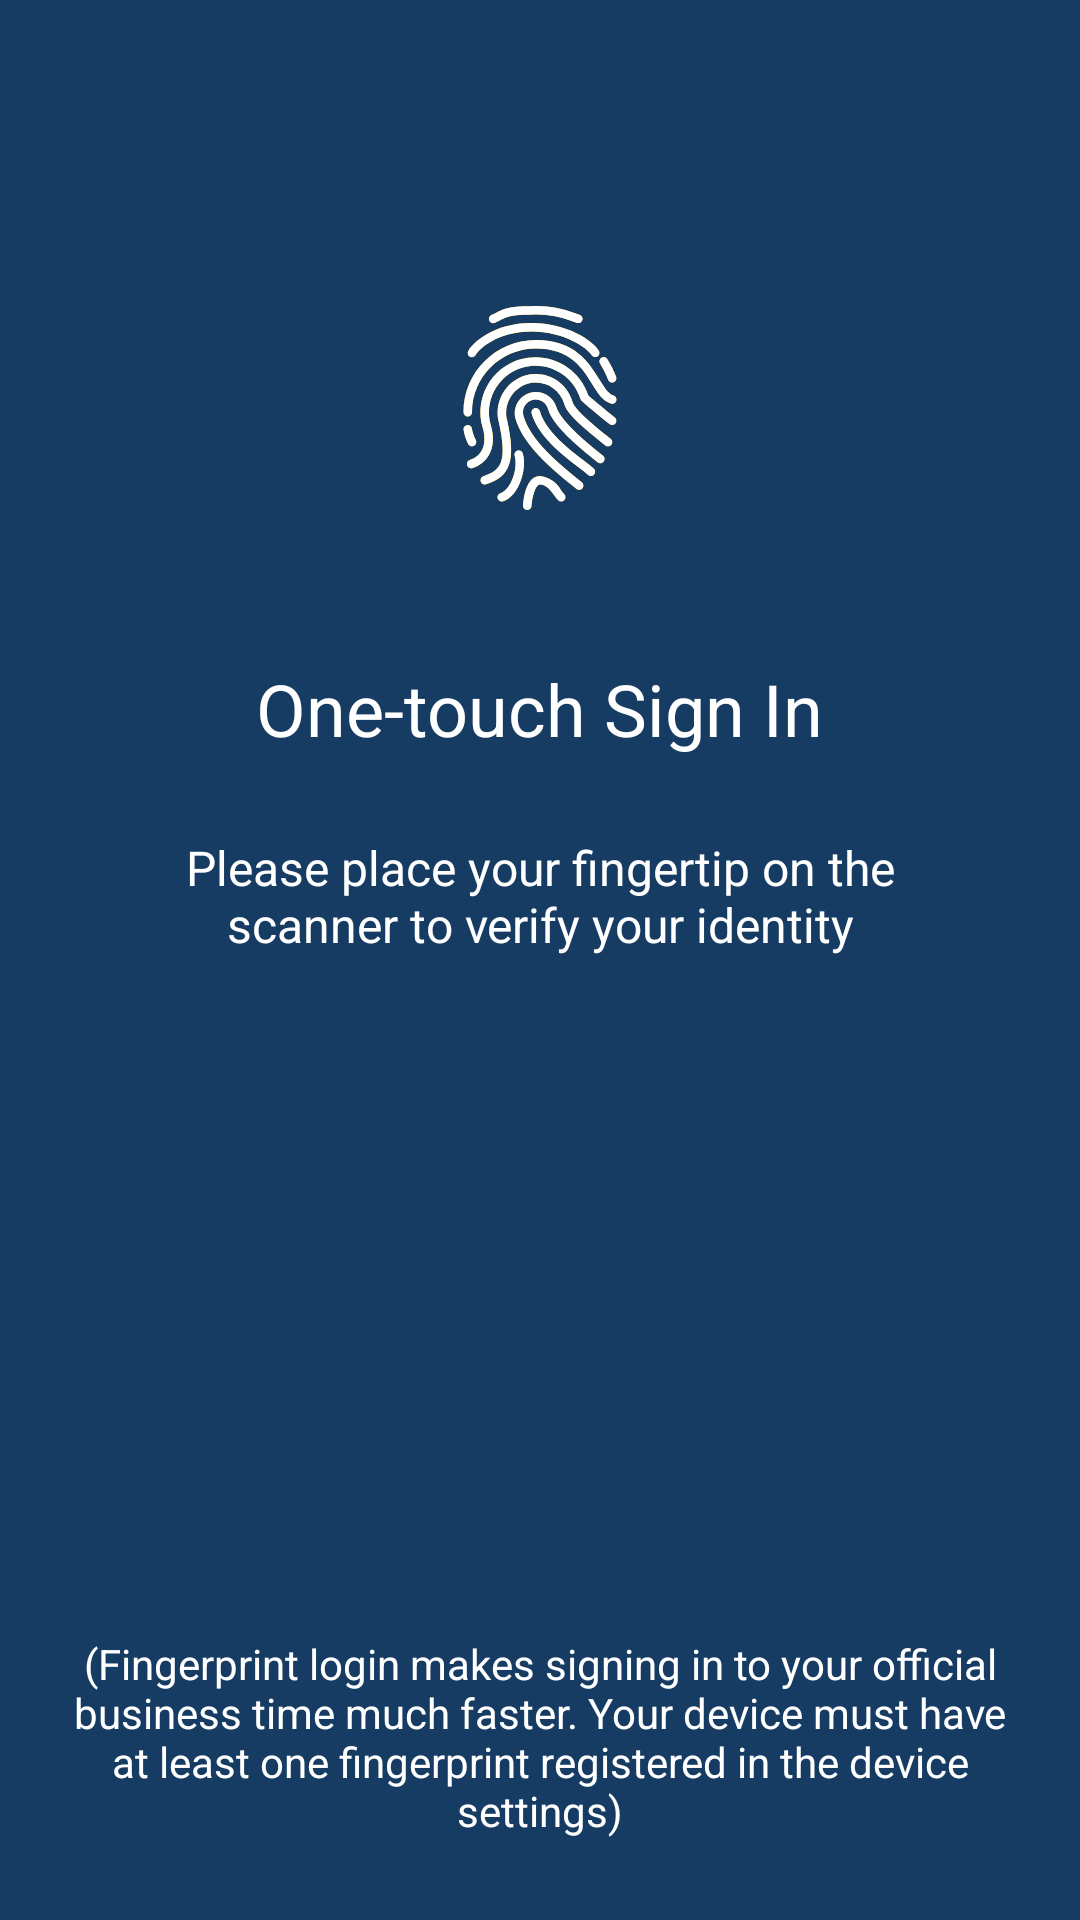

Screen size 1080 × 1920. Icon name, then its box in pixels as [x1=x1, y1=y1, x2=x2, y2=y2]:
fingerprint: [x1=463, y1=306, x2=617, y2=510]
